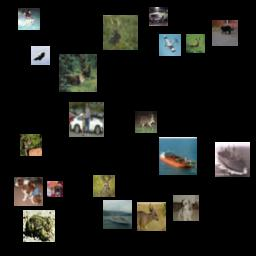airplane: (159, 34, 181, 56)
automobile: (69, 102, 104, 137), (149, 7, 168, 26)
bird: (31, 46, 50, 65)
cat: (212, 20, 238, 46)
deer: (59, 54, 97, 92), (103, 15, 138, 50), (137, 202, 166, 231), (93, 175, 115, 197), (135, 111, 157, 133), (20, 134, 42, 156), (186, 34, 205, 53)
dog: (14, 177, 43, 206), (173, 195, 199, 221), (18, 8, 40, 30), (47, 181, 63, 197)
frog: (23, 210, 55, 242)
ship: (159, 137, 197, 175), (215, 142, 250, 177), (103, 200, 132, 229)
